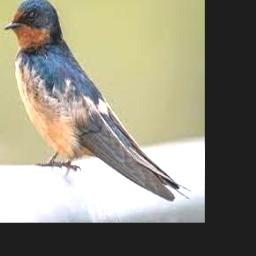Swallow: (5, 0, 191, 202)
